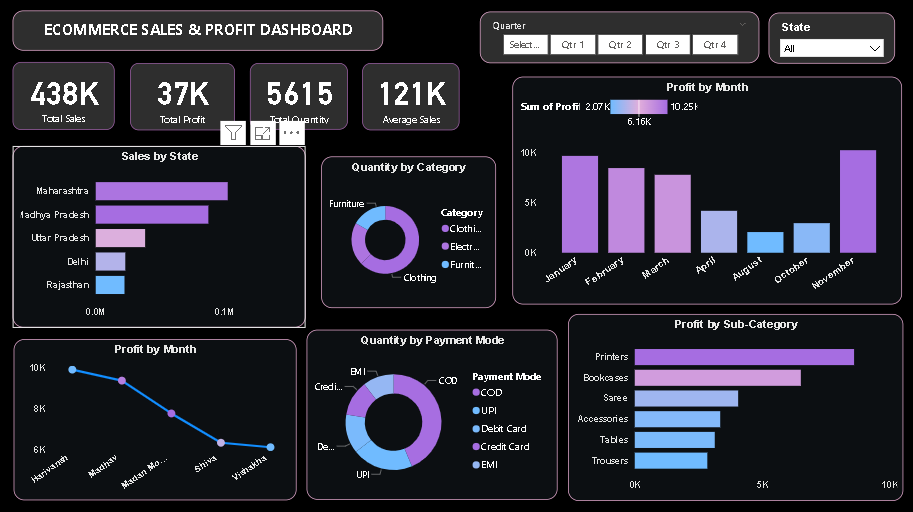

The dashboard page shown, as its layout file describes it:
{"tool":"powerbi","page":{"name":"Page 1","canvas":[1280,720],"ordinal":0},"visuals":[{"type":"textbox","box":[17.7,14.8,518.7,56.2],"z":0},{"type":"columnChart","title":"Profit by Month","fields":{"Category":["Orders.Order Date.Variation.Date Hierarchy.Month"],"Y":["Sum(Details.Profit)"]},"box":[718.2,107.9,545.3,319.2],"z":1000},{"type":"clusteredBarChart","fields":{"Category":["Details.Sub-Category"],"Y":["Sum(Details.Profit)"]},"box":[795.1,440.4,469.9,261.6],"z":2000},{"type":"donutChart","fields":{"Category":["Details.Category"],"Y":["Sum(Details.Quantity)"]},"box":[450.4,219.7,244.4,212.8],"z":3000},{"type":"donutChart","fields":{"Category":["Details.PaymentMode"],"Y":["Sum(Details.Quantity)"]},"box":[430.1,461.1,351.7,237.9],"z":4000},{"type":"card","fields":{"Values":["Sum(Details.Amount)"]},"box":[18.2,86.5,142.7,95.6],"z":5000},{"type":"card","fields":{"Values":["Sum(Details.Quantity)"]},"box":[350.2,88.7,137.4,93.1],"z":6000},{"type":"card","fields":{"Values":["Sum(Details.Profit)"]},"box":[181.8,88.7,146.3,94.6],"z":7000},{"type":"card","fields":{"Values":["Sum(Details.AVG)"]},"box":[506.9,88.7,136,94.6],"z":8000},{"type":"clusteredBarChart","fields":{"Category":["Orders.State"],"Y":["Sum(Details.Amount)"]},"box":[17.8,204.6,410.5,254],"z":9000},{"type":"lineChart","title":"Profit by Month","fields":{"Category":["Orders.CustomerName"],"Y":["Sum(Details.Amount)"]},"box":[19.2,474.4,396,226.1],"z":10000},{"type":"slicer","fields":{"Values":["Orders.Order Date.Variation.Date Hierarchy.Quarter"]},"box":[672.4,16.3,391.6,72.4],"z":11000},{"type":"slicer","fields":{"Values":["Orders.State"]},"box":[1076.5,17.8,177.1,71.4],"z":12000}]}

Visuals, with their boxes in screenshot pixels (x1, y1, x2, y2), scaled from the page's 1280x720 canvas onto the 913x512 screenshot:
textbox: 13/11/383/50
"Profit by Month" columnChart: 512/77/901/304
clusteredBarChart - Details.Sub-Category x Sum(Details.Profit): 567/313/902/499
donutChart - Details.Category x Sum(Details.Quantity): 321/156/496/308
donutChart - Details.PaymentMode x Sum(Details.Quantity): 307/328/558/497
card - Sum(Details.Amount): 13/62/115/129
card - Sum(Details.Quantity): 250/63/348/129
card - Sum(Details.Profit): 130/63/234/130
card - Sum(Details.AVG): 362/63/459/130
clusteredBarChart - Orders.State x Sum(Details.Amount): 13/145/305/326
"Profit by Month" lineChart: 14/337/296/498
slicer - Orders.Order Date.Variation.Date Hierarchy.Quarter: 480/12/759/63
slicer - Orders.State: 768/13/894/63
